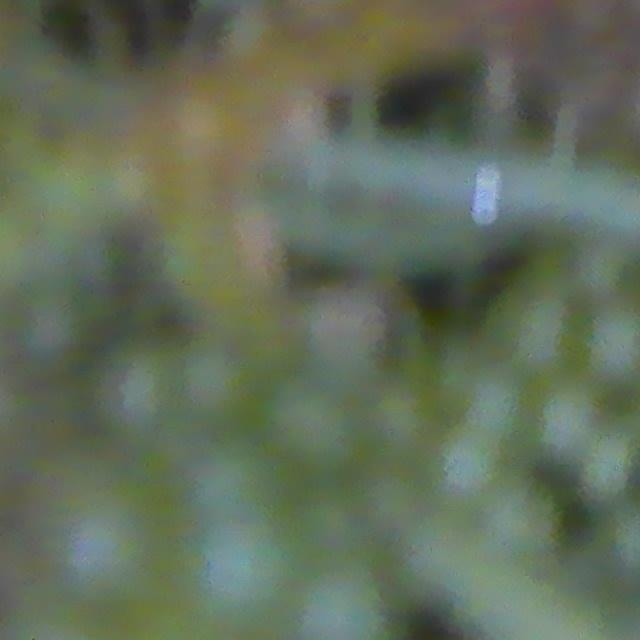SeaGrape: (191, 516, 293, 625), (52, 503, 150, 601), (263, 381, 364, 476), (292, 568, 399, 640), (186, 438, 274, 524), (100, 345, 181, 429), (501, 293, 582, 374), (181, 343, 257, 421), (532, 381, 604, 459), (458, 365, 529, 440), (431, 430, 503, 502), (579, 304, 640, 386)
